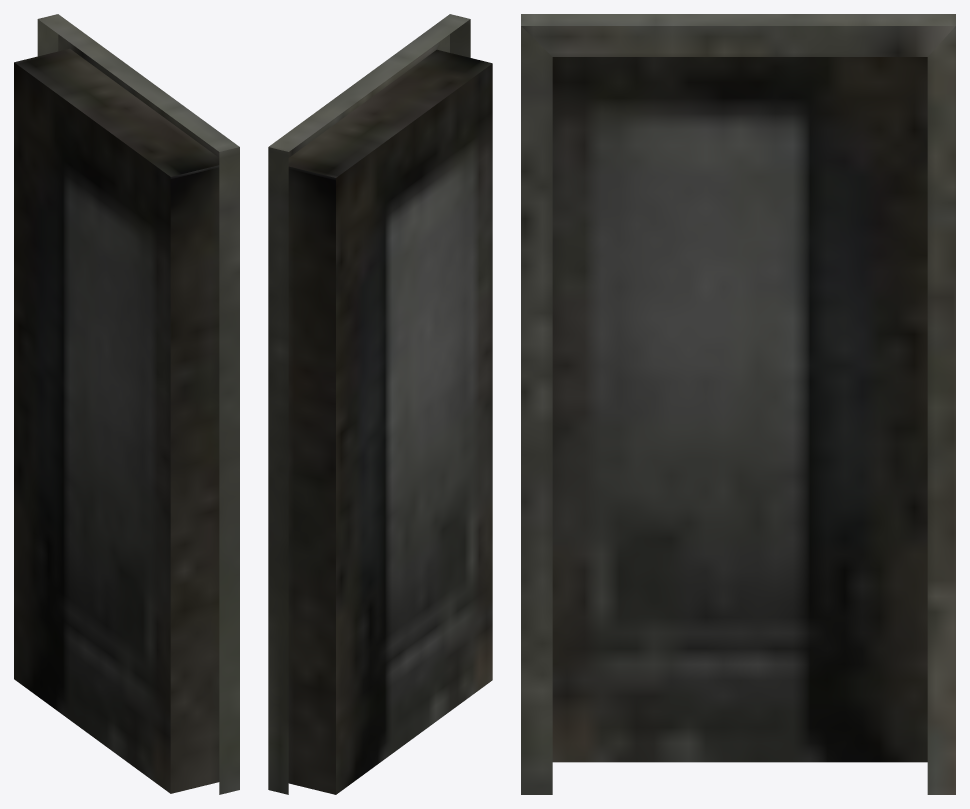
File: SingleDoor.FBX
3 renders of one model, left to right at view 1: azimuth 30°, elevation 25°; view 2: azimuth 150°, elevation 25°; view 3: azimuth 270°, elevation 25°, orthographic. The views are drawn at different scales.
Visible parts, largest first — view 1: SingleDoor; view 2: SingleDoor; view 3: SingleDoor.
Part boxes in pixels (bbox=[...]): SingleDoor: bbox=[14, 14, 239, 794]; SingleDoor: bbox=[268, 14, 492, 794]; SingleDoor: bbox=[521, 14, 955, 794].
Size of the model in its own units: 31.61 by 347 by 178.
